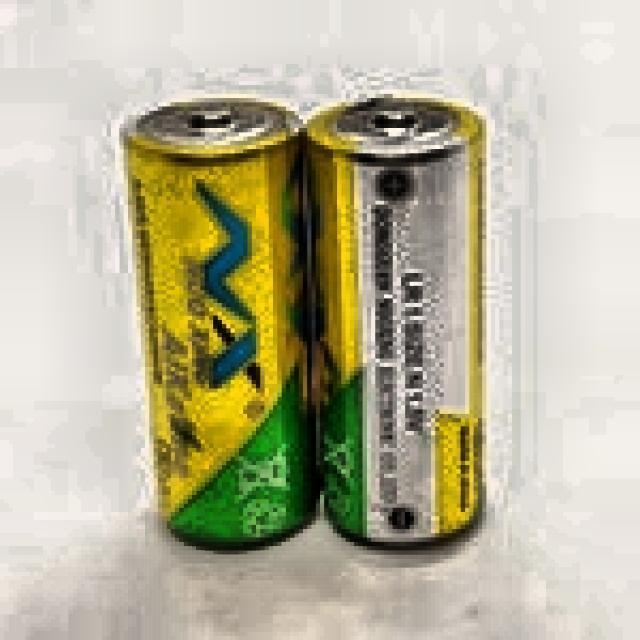battery: (125, 97, 316, 547), (305, 96, 484, 544)
